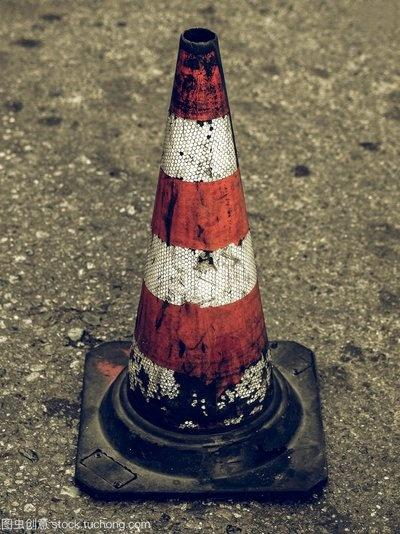cone_barrel: (113, 26, 295, 452)
